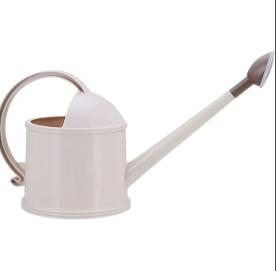ARROSOIR: (0, 45, 276, 234)
